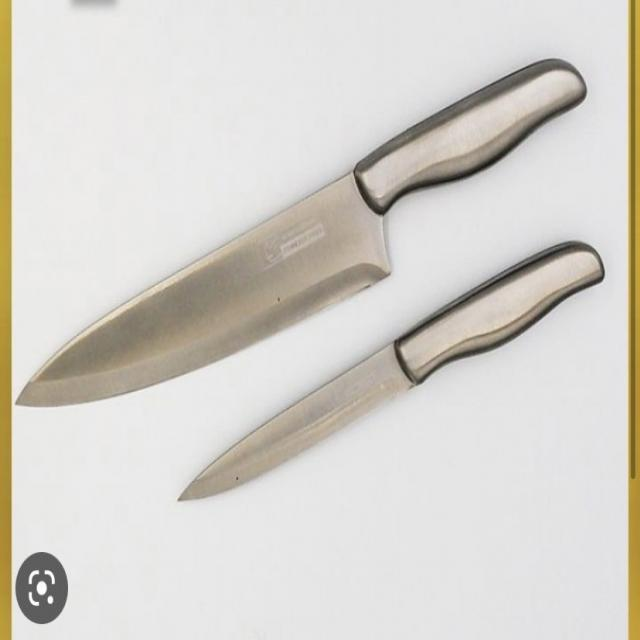Knife: (10, 54, 608, 506)
